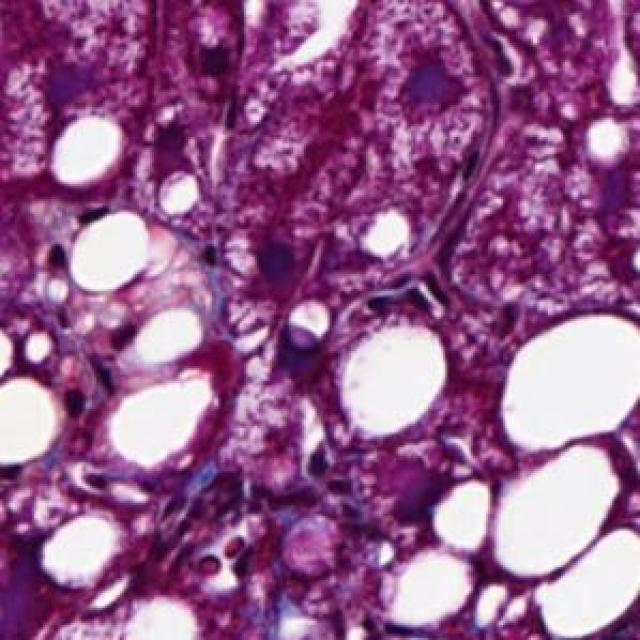inflammation: (236, 430, 368, 529), (372, 41, 480, 132), (56, 317, 146, 426), (158, 496, 259, 593)
